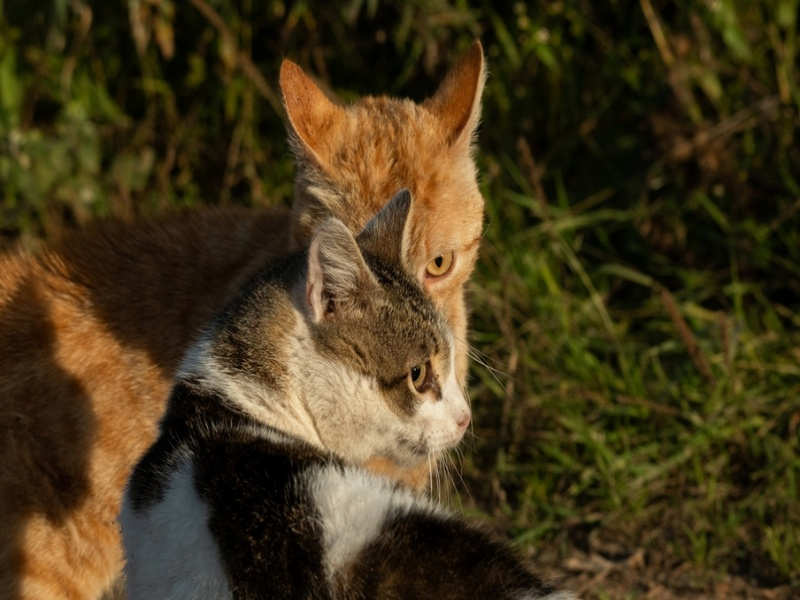cat: (7, 34, 503, 598), (111, 188, 563, 600)
